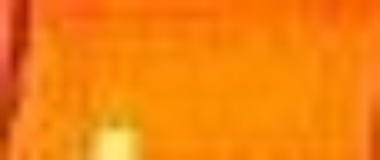Hotspot: (88, 122, 142, 160)
